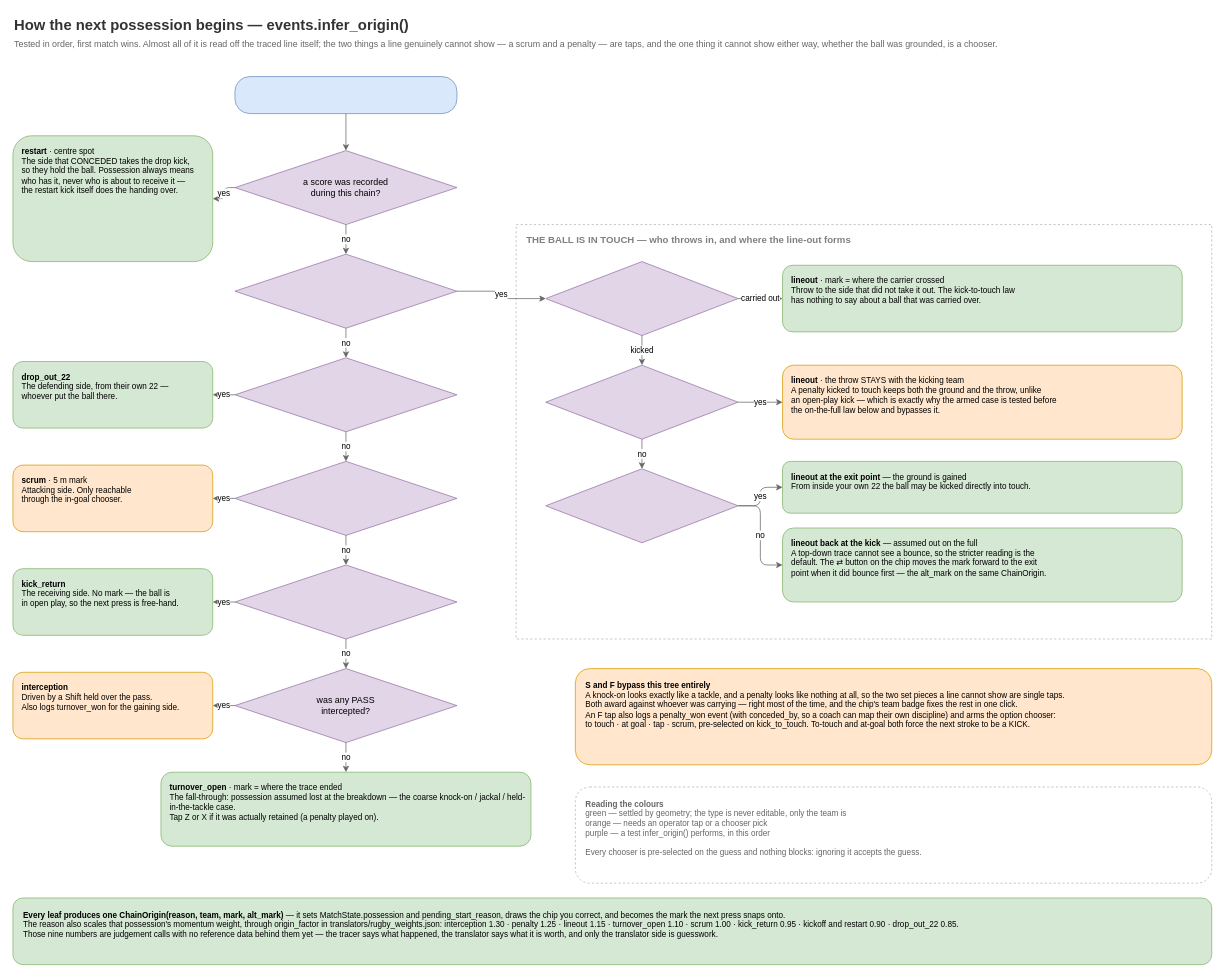
Some shapes in this 1225 by 978 pixel diagram are drawn without their labels. Each missing label, with the centre of its shape:
a chain has just committed: the point at 345,95
did the traced line cross a touchline?: the point at 345,290
in-goal chooser says held up?: the point at 345,498
kicked from inside the kicker's own 22?: the point at 641,505
past a dead-ball line, or the in-goal chooser says drop-out?: the point at 345,394
penalty option armed as kick_to_touch?: the point at 641,401
was it KICKED out, or carried out?: the point at 641,298
was the last segment a KICK?: the point at 345,601
